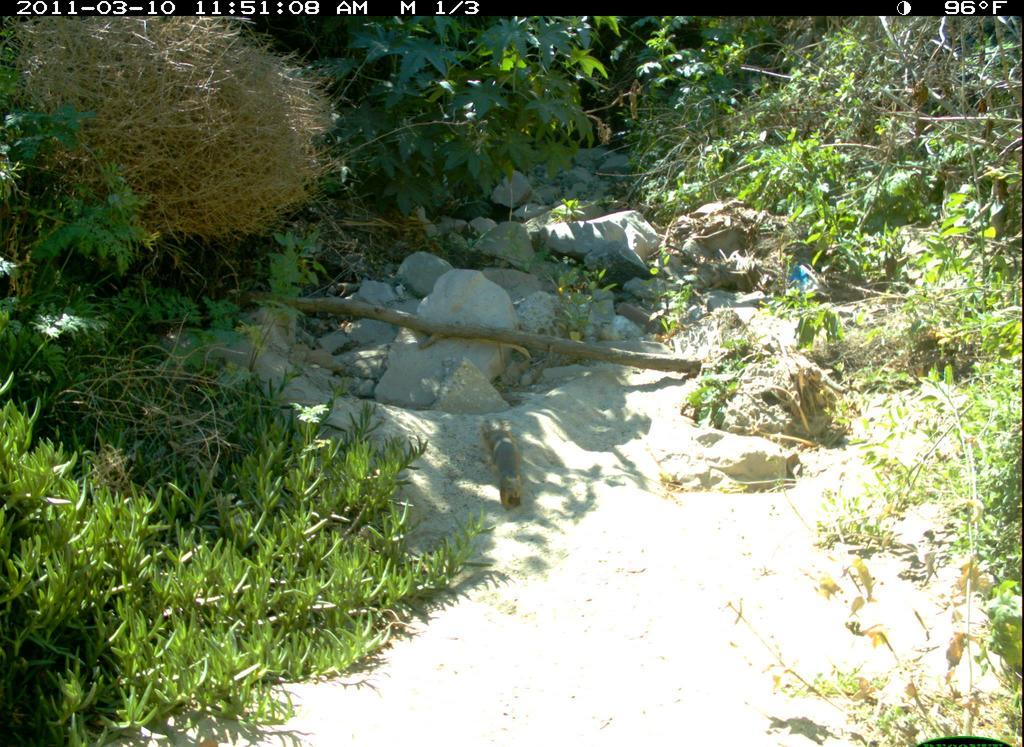squirrel: (479, 410, 534, 523)
